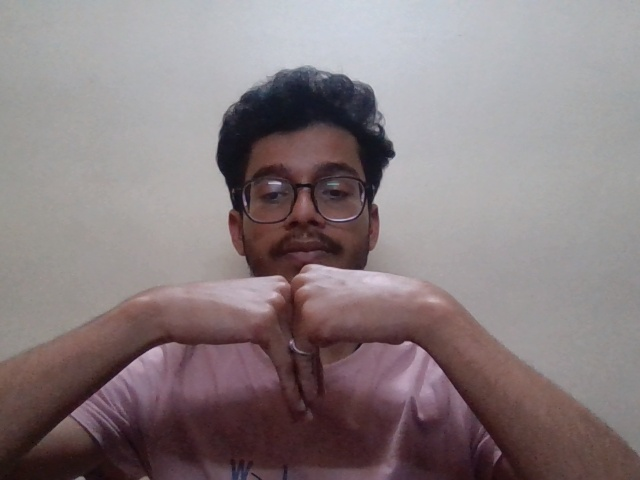yesterday: (129, 260, 436, 432)
